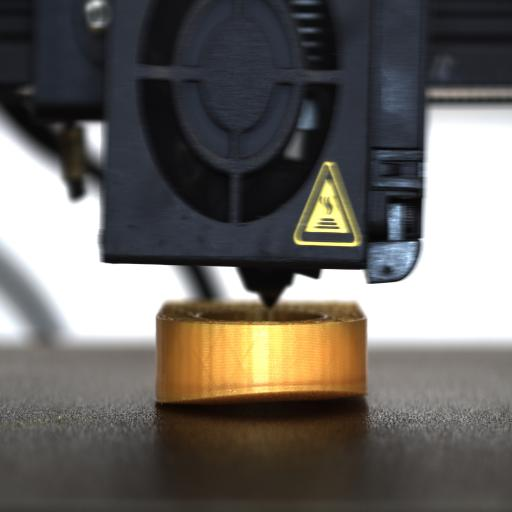warp: (158, 373, 368, 415)
